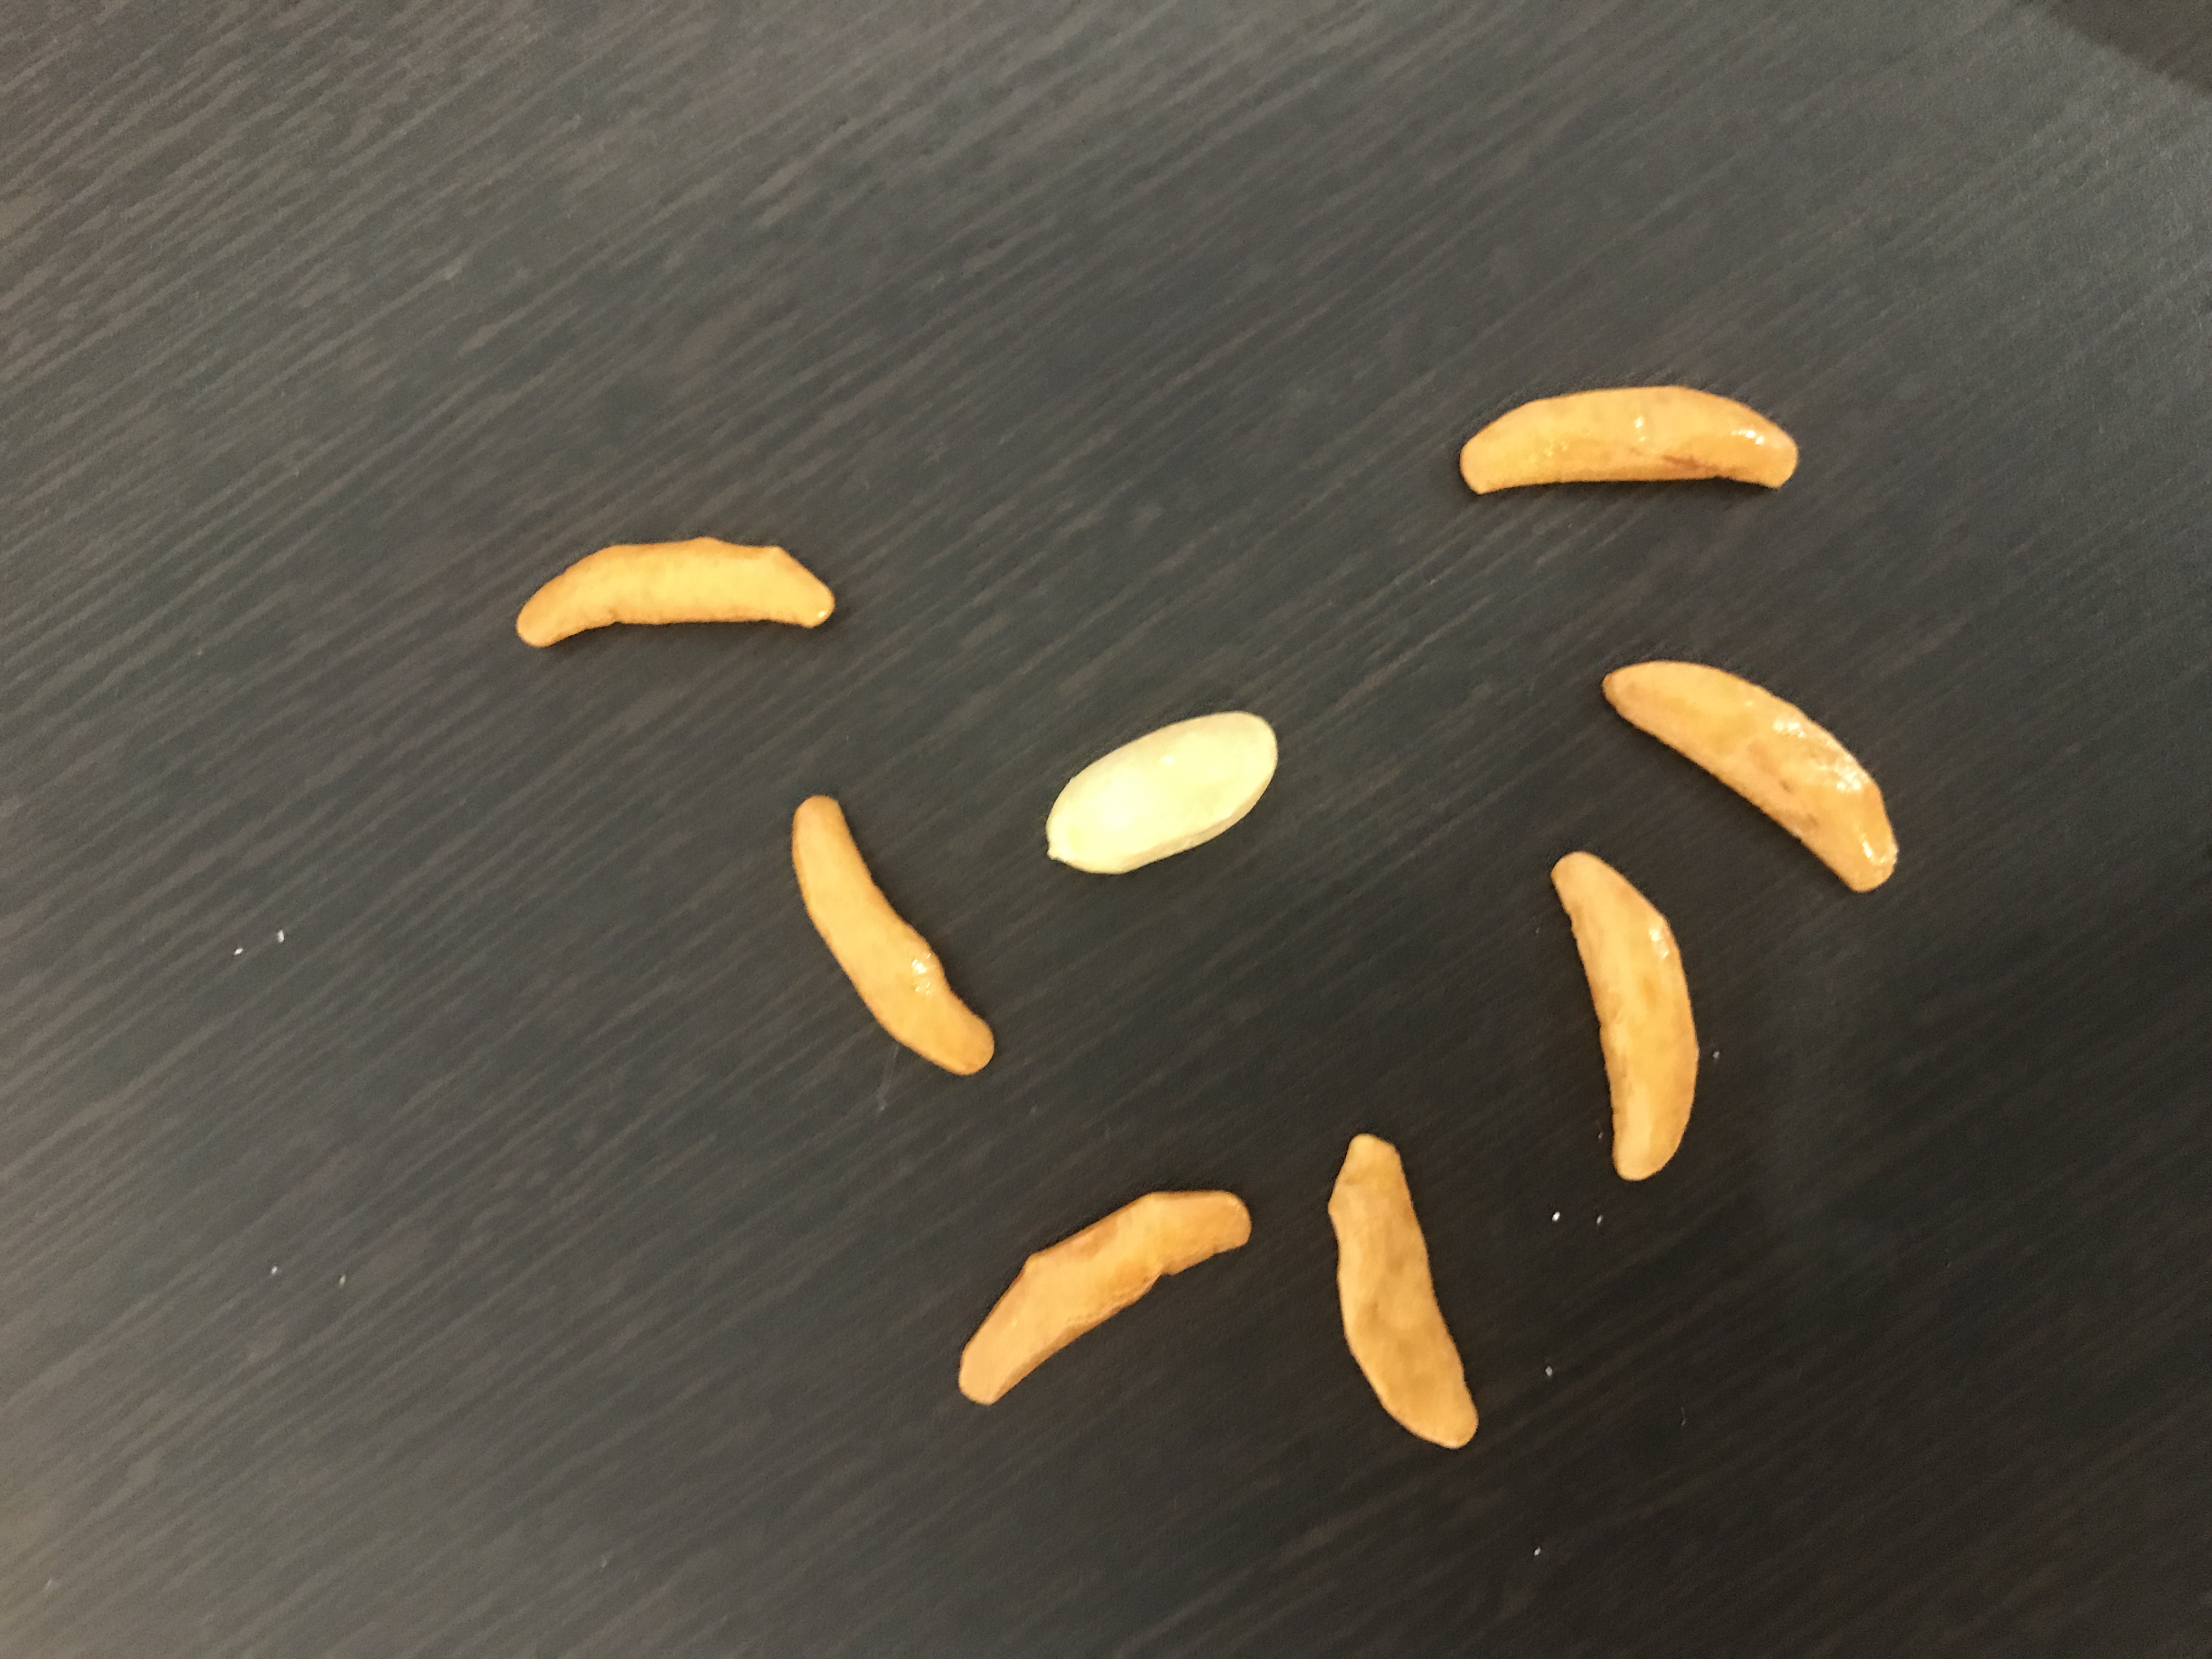peanut: (1028, 702, 1282, 884)
